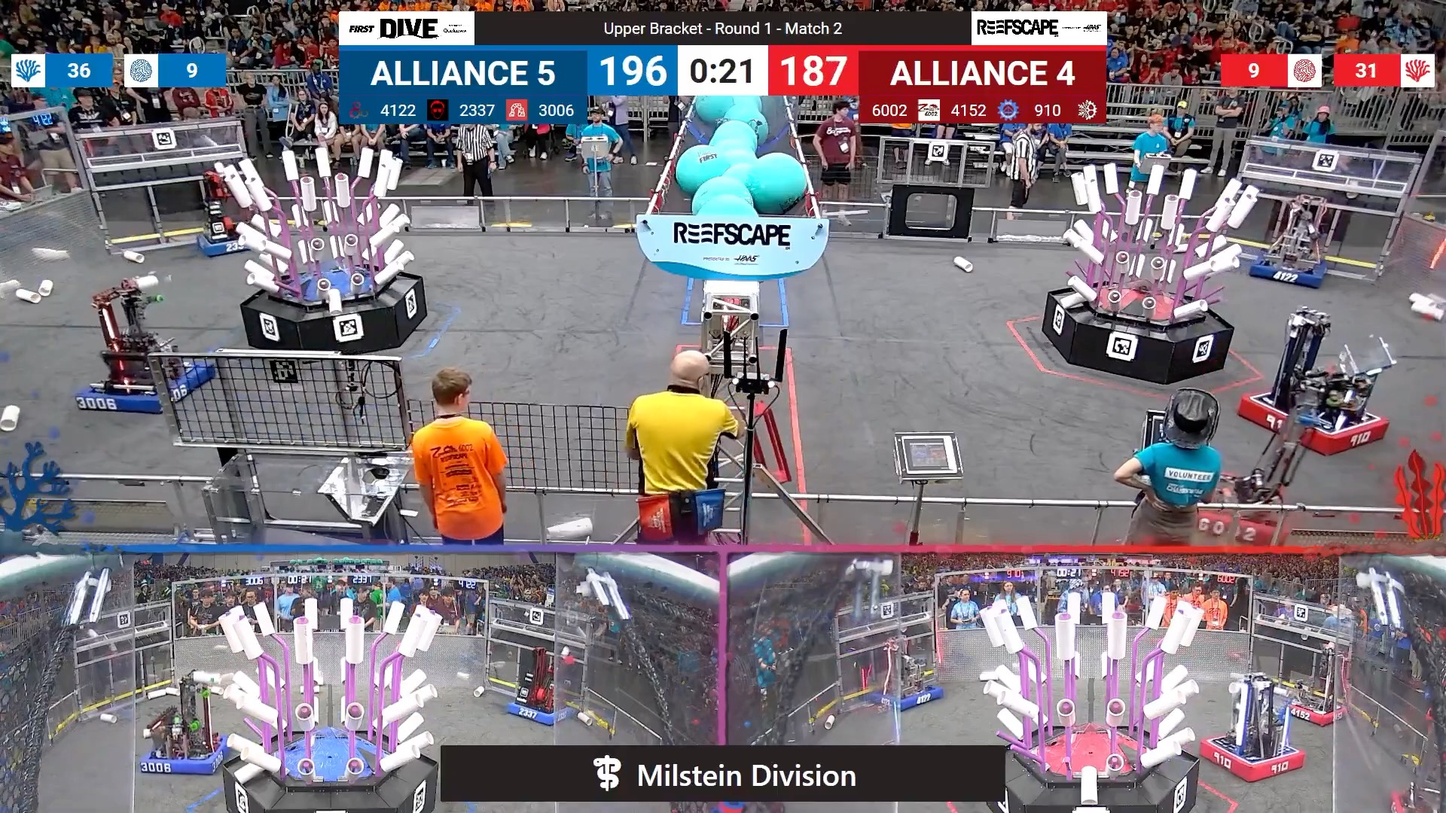bumpers: (1231, 385, 1396, 458), (72, 355, 216, 419), (1192, 733, 1310, 783), (136, 731, 239, 782), (1235, 250, 1338, 293), (501, 695, 581, 730), (190, 224, 265, 260), (864, 682, 948, 714), (1282, 694, 1351, 728)
